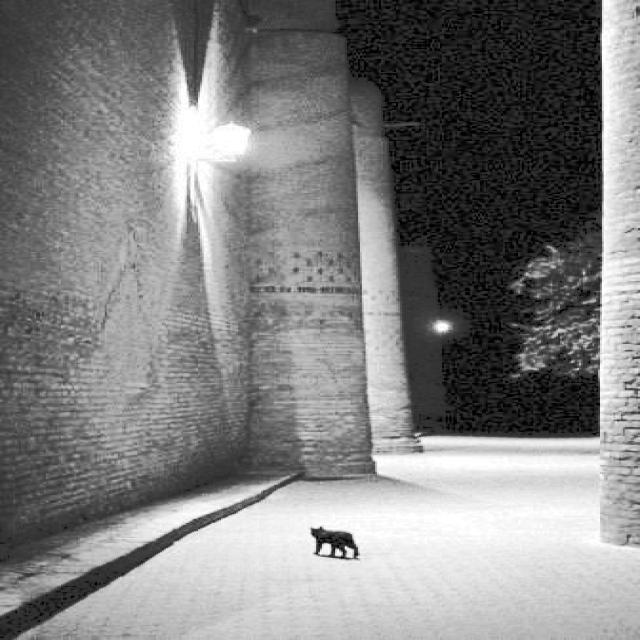Cat: (278, 498, 410, 582)
